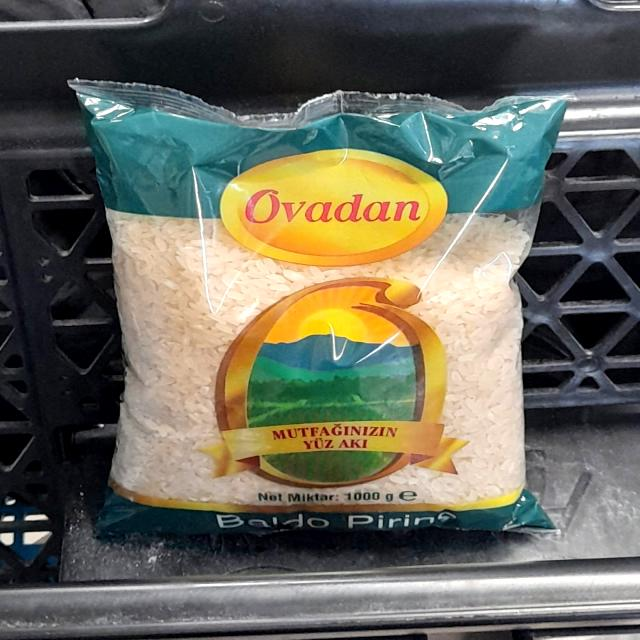rice: (97, 108, 547, 539)
